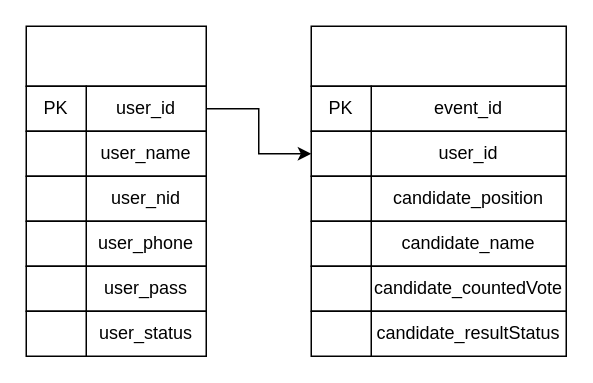
This 593x383 diagram has some shape labels left out. The shapes that lost their labels are listed below. From the top down, each one's centre as x and y in pixels, then its label:
At (x=115, y=55): "User_Table".
At (x=438, y=55): "Event_Table".
At (x=340, y=153): "FK".
